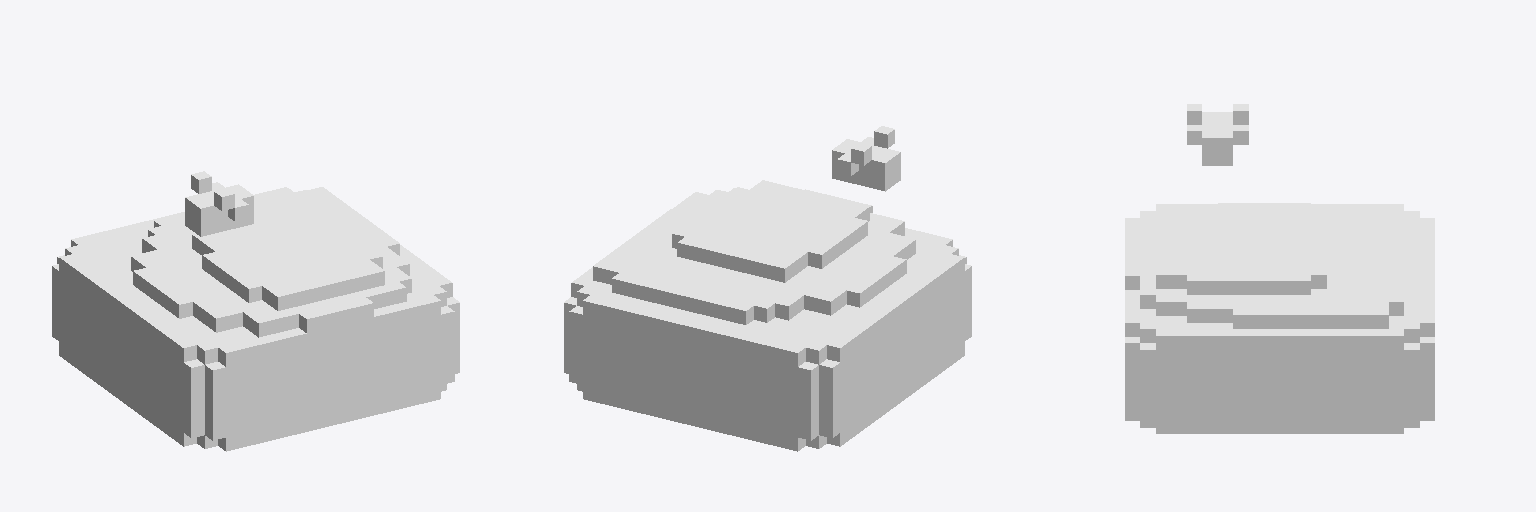
Rendered from beehive.vox.obj.
3 views of the same model, side by side, from view 1: azimuth 30°, elevation 25°; view 2: azimuth 150°, elevation 25°; view 3: azimuth 270°, elevation 25° (orthographic).
Visible parts, largest first — view 1: object 1; view 2: object 1; view 3: object 1.
Part boxes in pixels (bbox=[...]): object 1: bbox=[52, 171, 459, 451]; object 1: bbox=[564, 126, 971, 451]; object 1: bbox=[1125, 104, 1434, 433].
Bounding box in the file's own units: 2 × 1.6 × 2.